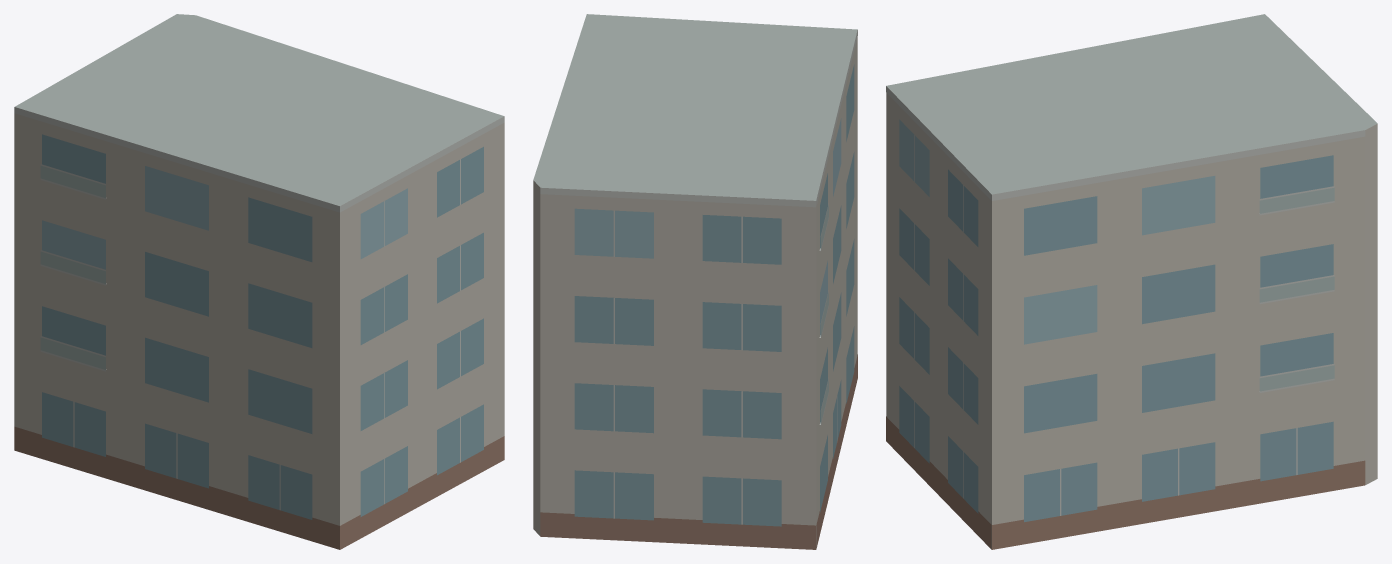
File: survey-upis-32667858.glb
3 renders of one model, left to right at view 1: azimuth 30°, elevation 25°; view 2: azimuth 150°, elevation 25°; view 3: azimuth 270°, elevation 25°, orthographic. The views are drawn at different scales.
Parts seen in each view (by area): view 1: survey-upis-32667858.tmp; view 2: survey-upis-32667858.tmp; view 3: survey-upis-32667858.tmp.
Part boxes in pixels (box(x1,y1,x2,y2)): survey-upis-32667858.tmp: box(14, 14, 504, 549); survey-upis-32667858.tmp: box(533, 14, 857, 549); survey-upis-32667858.tmp: box(886, 14, 1377, 549).
Bounding box in the file's own units: 14.51 × 13.3 × 16.69.
